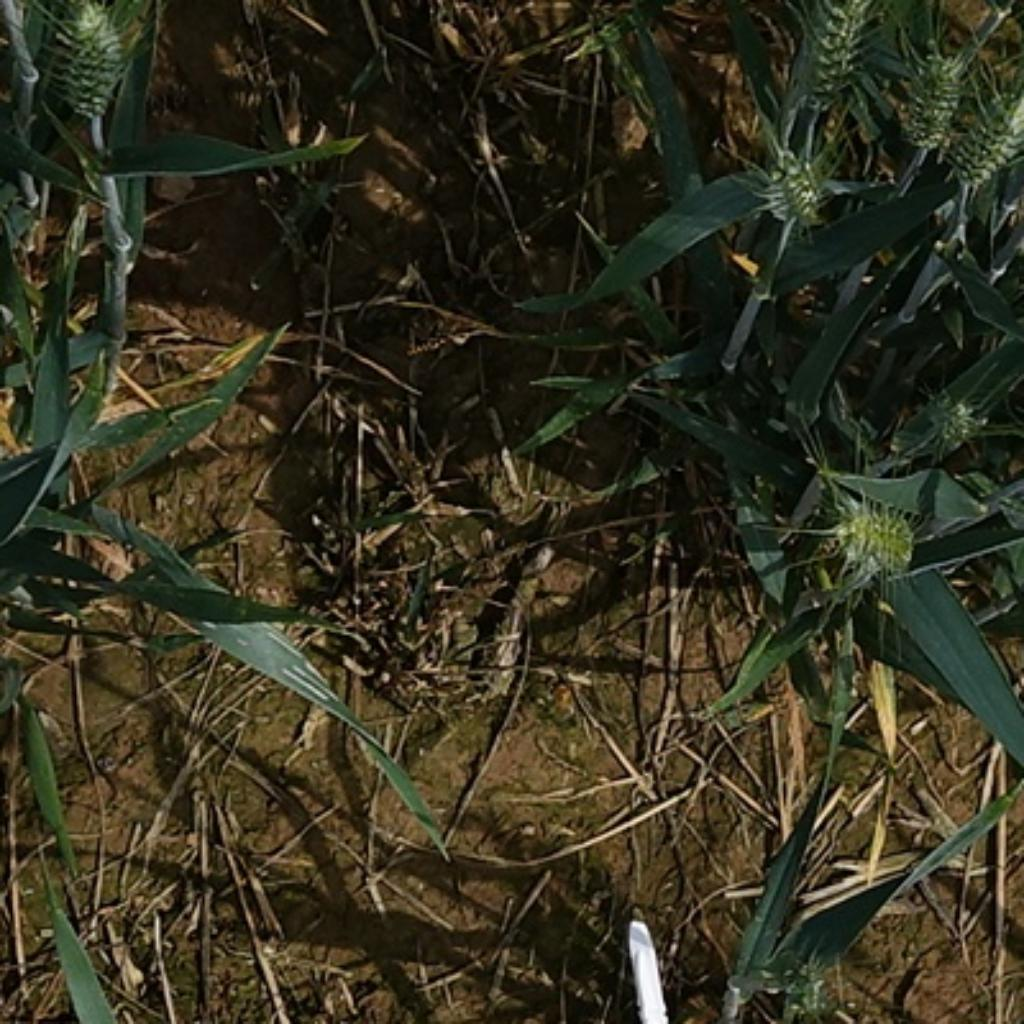0-0: (898, 38, 980, 156), (952, 84, 1024, 202), (888, 381, 985, 463), (808, 2, 878, 109), (835, 496, 923, 577), (755, 141, 834, 230), (66, 5, 122, 130)
